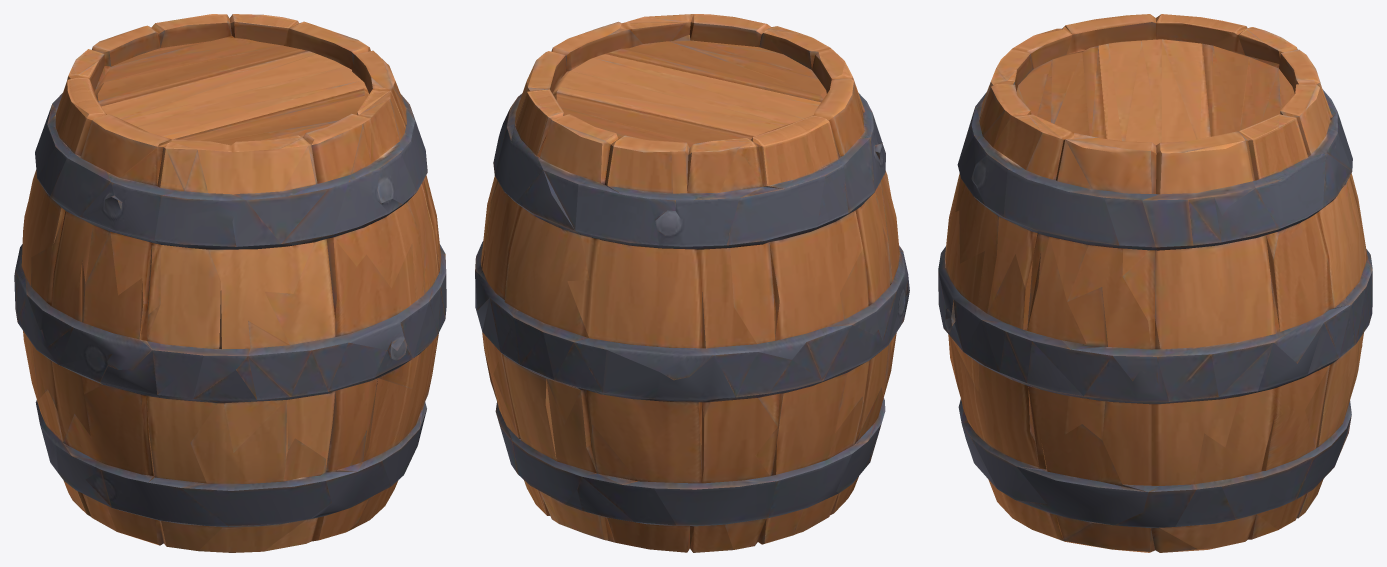
Rendered from farm-barrel.glb.
3 views of the same model, side by side, from view 1: azimuth 30°, elevation 25°; view 2: azimuth 150°, elevation 25°; view 3: azimuth 270°, elevation 25° (orthographic).
Parts seen in each view (by area): view 1: farm-barrel-fit; view 2: farm-barrel-fit; view 3: farm-barrel-fit.
Part boxes in pixels (box(x1,y1,x2,y2)): farm-barrel-fit: box(14, 14, 446, 552); farm-barrel-fit: box(475, 14, 909, 552); farm-barrel-fit: box(938, 14, 1372, 552).
Bounding box in the file's own units: 0.9766 × 1 × 0.9716.
Materials: 1 (1 with a texture image).
